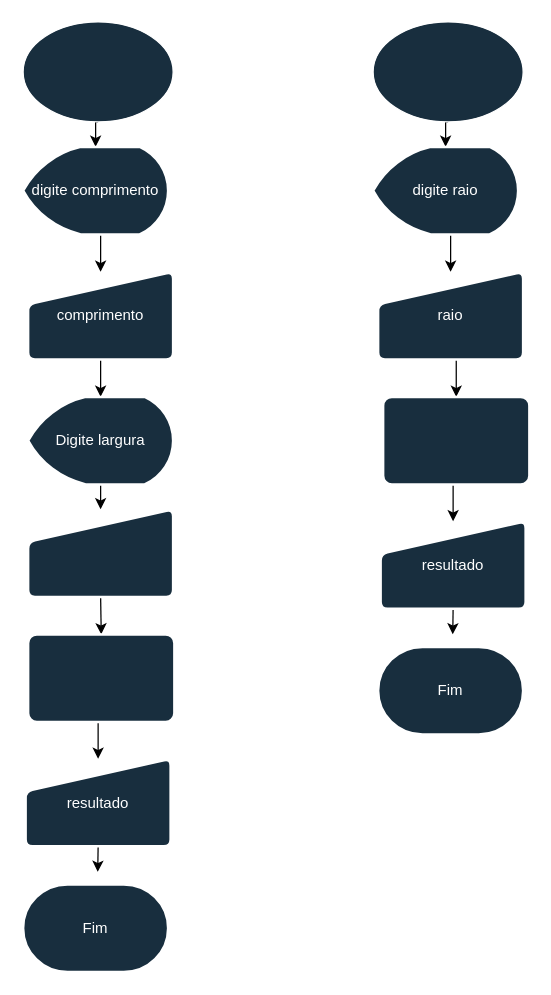
Some shapes in this 551 by 995 pixel diagram are drawn without their labels. The shapes that lost their labels are listed below. From the top down, each one's centre as x and y in pixels, then its label:
the point at 97,71: exibir digite número
the point at 447,71: inicio
the point at 455,440: calcular perímetro
the point at 100,553: largura
the point at 100,677: calcule comprimento e largura
